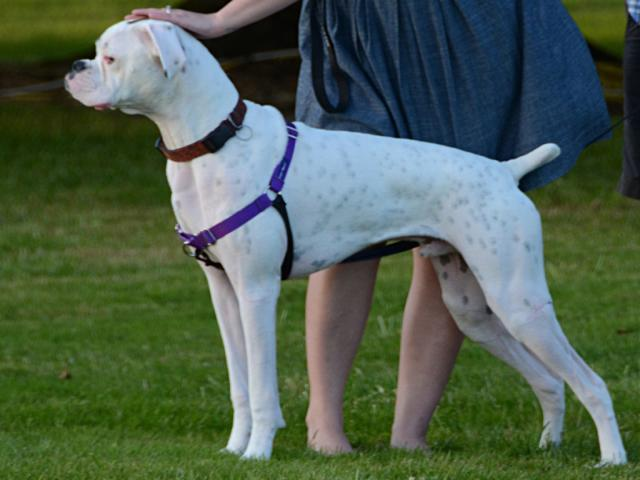Dog: (62, 17, 630, 471)
